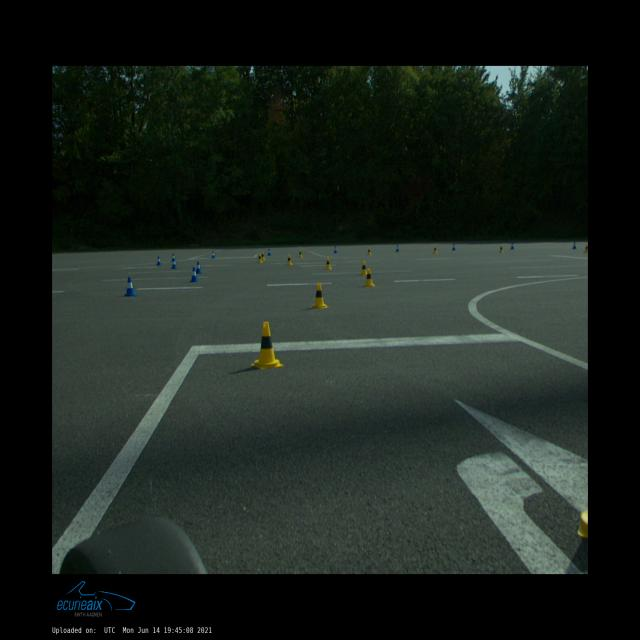blue_cone: (123, 277, 137, 297), (190, 268, 198, 282), (196, 261, 202, 274), (156, 256, 162, 265), (171, 259, 177, 268), (572, 241, 577, 249), (211, 251, 216, 258), (171, 254, 176, 261), (267, 249, 272, 255), (510, 243, 514, 249), (452, 244, 455, 250), (334, 247, 337, 253), (396, 246, 399, 251)
yellow_cone: (252, 322, 284, 369), (312, 283, 328, 308), (364, 268, 375, 287), (360, 260, 367, 276), (324, 257, 332, 269), (286, 254, 292, 266), (257, 253, 263, 263), (298, 249, 303, 257), (433, 246, 438, 253), (499, 245, 503, 253), (262, 252, 266, 260), (584, 245, 588, 252), (367, 248, 371, 255)
